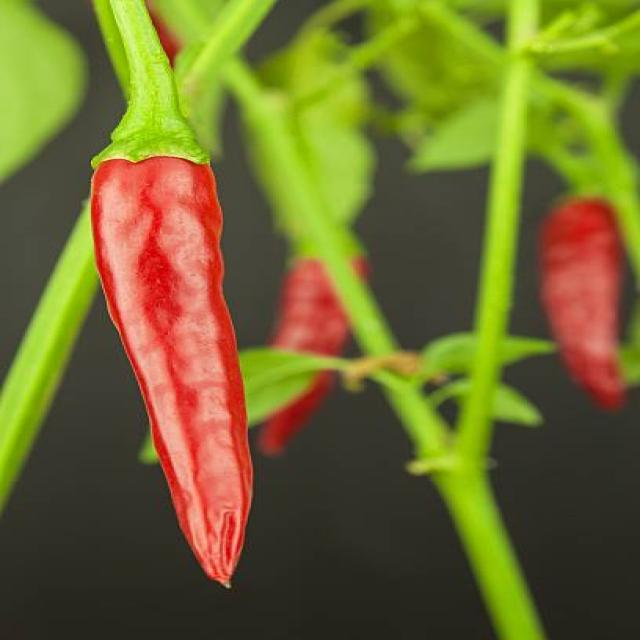Ripe: (93, 157, 251, 584)
